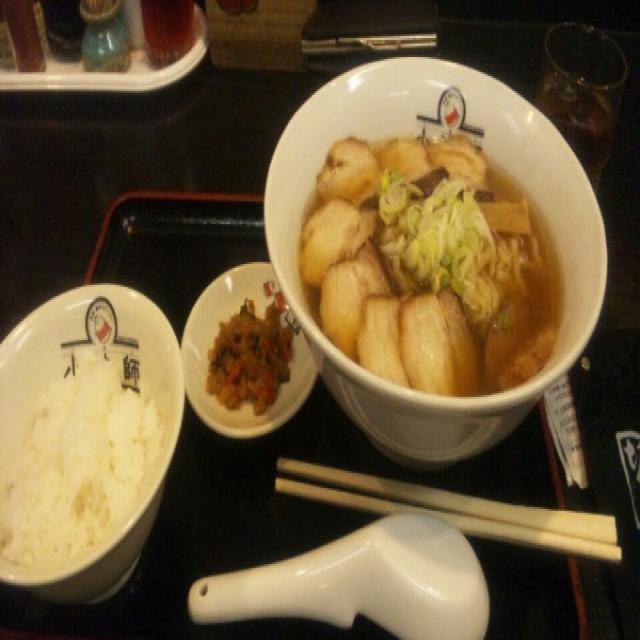Rice: (0, 353, 163, 572)
